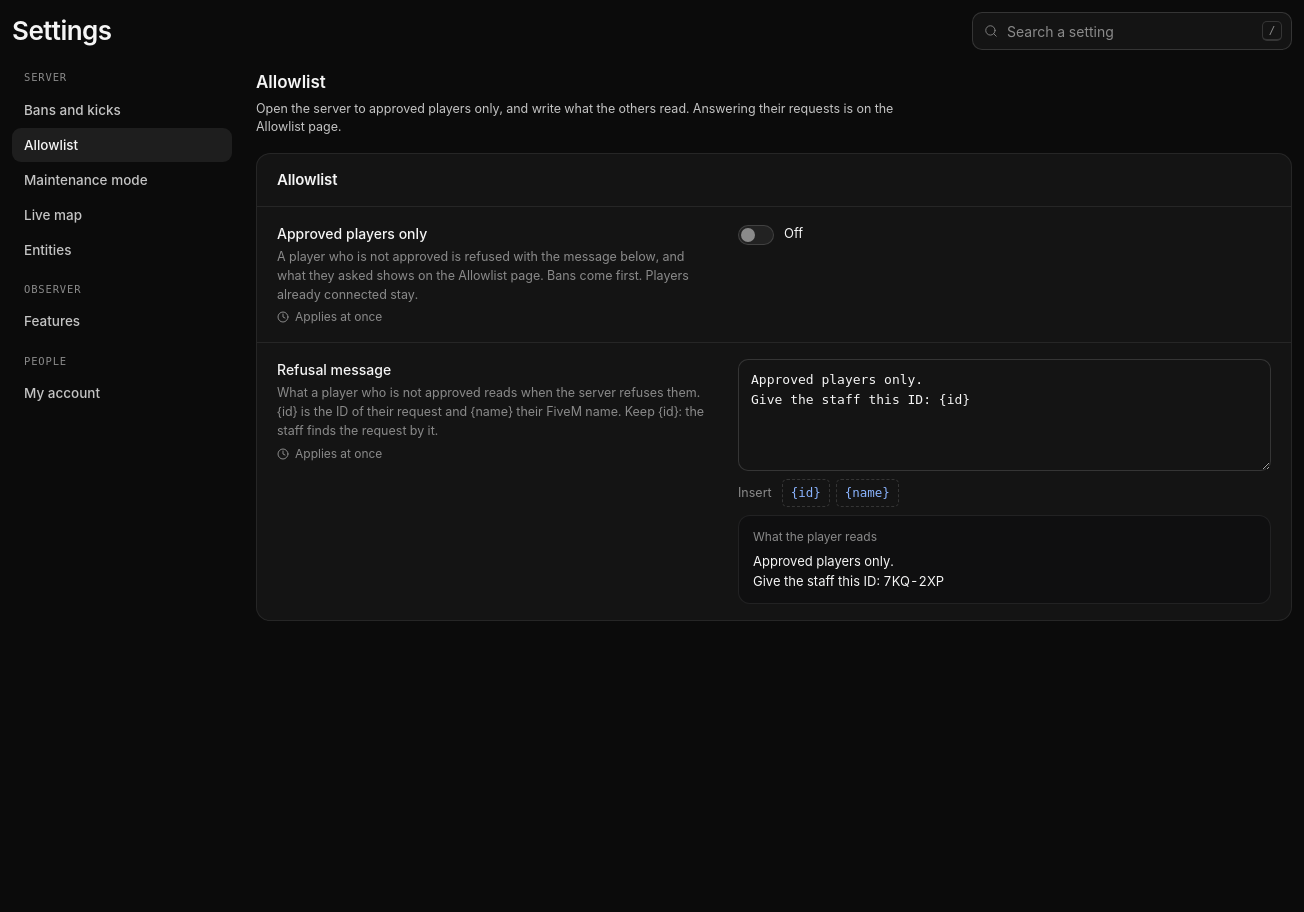
Test: Allowlist settings › should turn the allowlist on with the message, saved together
The image size is (1304, 912).
Click the switch labelled "Approved players only" at (352, 234), box [277, 223, 427, 244]
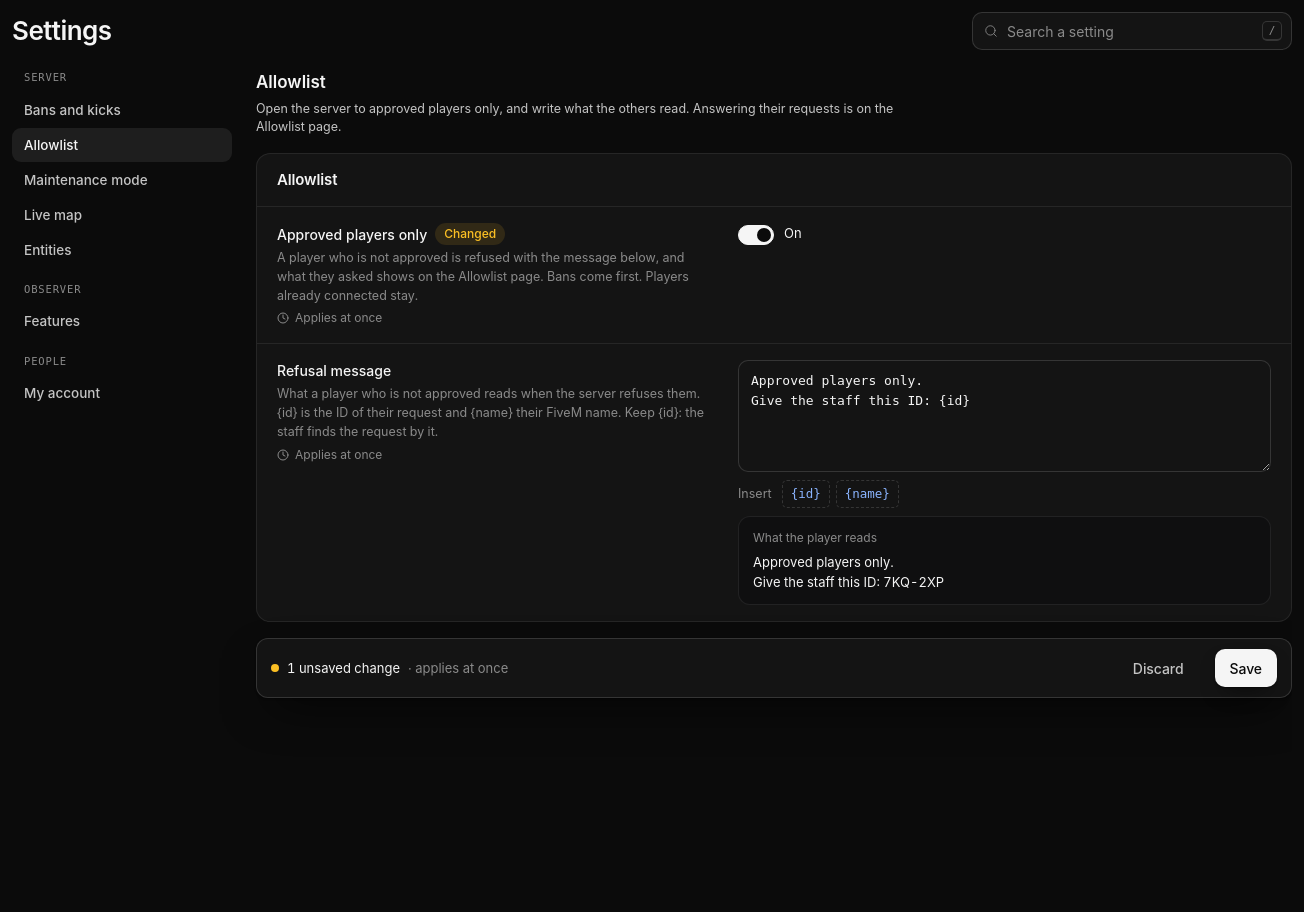
Click the button "{name}" at (867, 494), box [836, 480, 899, 508]
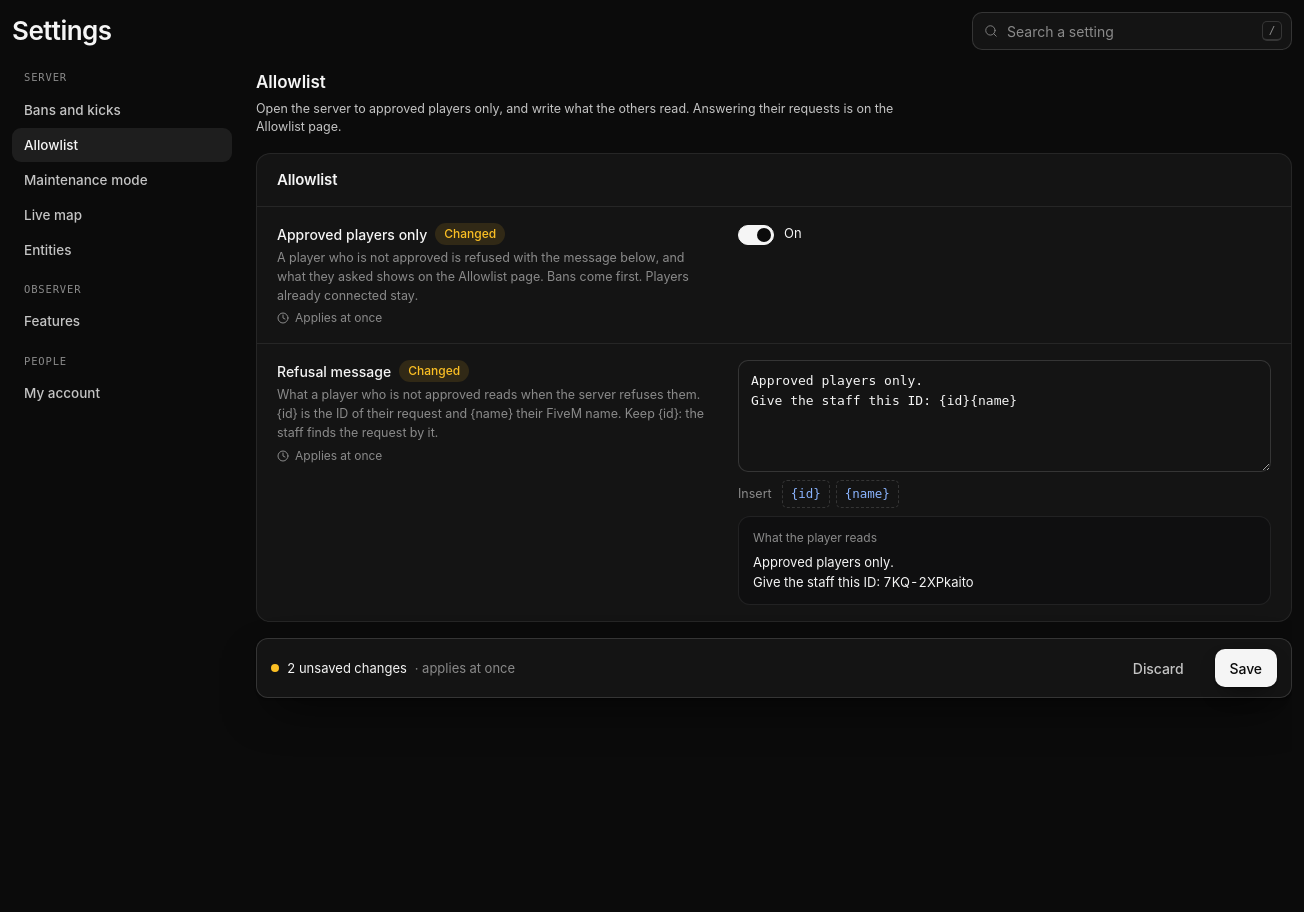
Click the button "Save" at (1246, 668), box [1214, 649, 1277, 687]
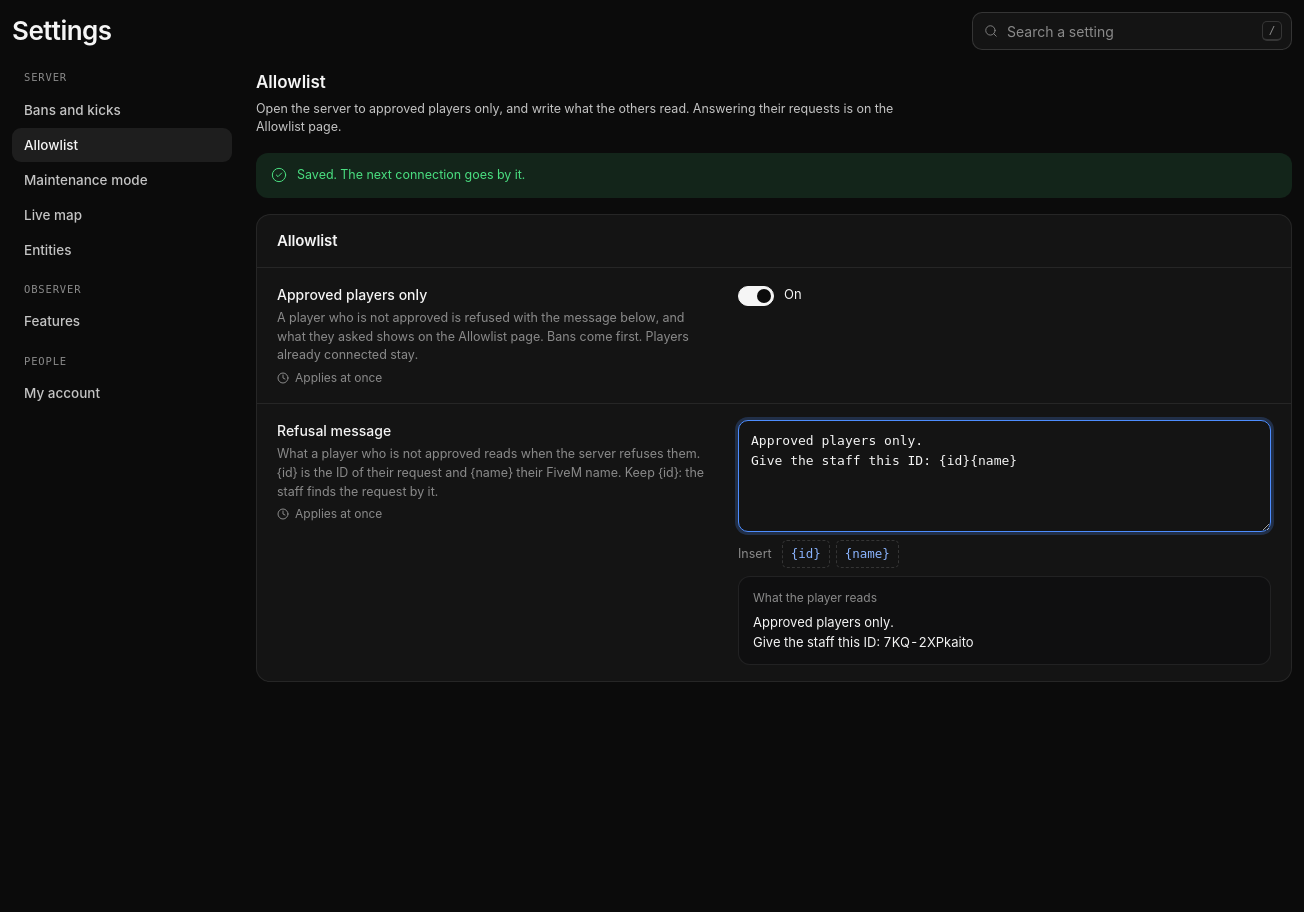
Expected: the text "Saved. The next connection goes by it." is shown, [297, 167, 525, 182]
